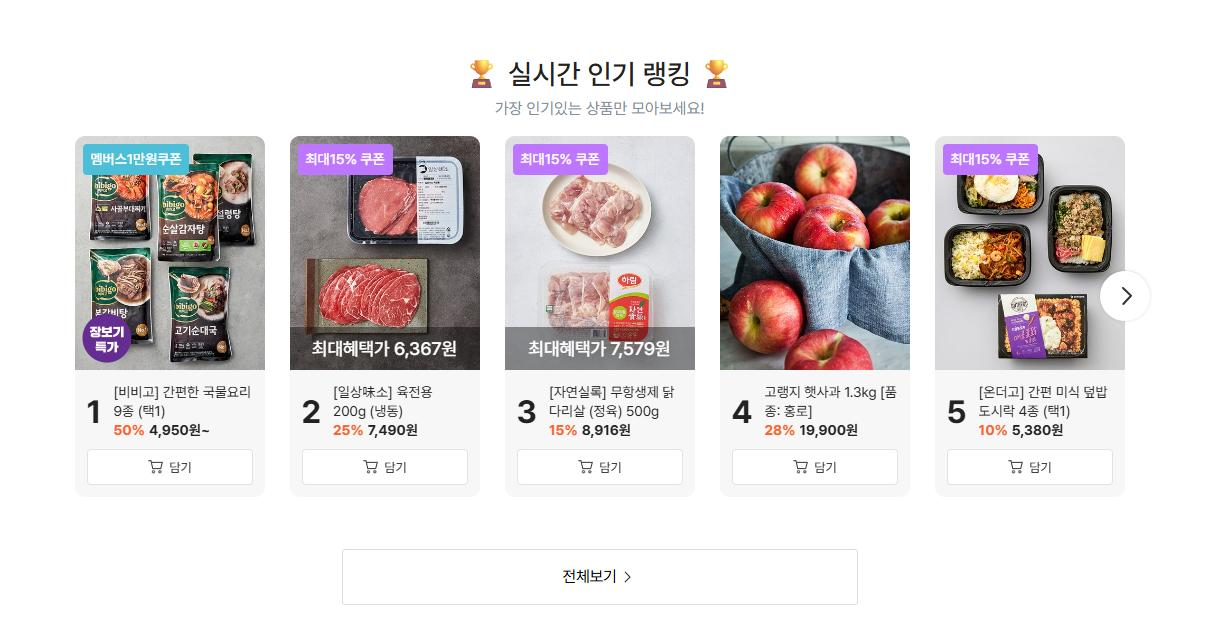button: (344, 549, 857, 605), (517, 446, 685, 488), (301, 449, 468, 488), (732, 448, 897, 487), (87, 450, 255, 485), (947, 449, 1111, 484), (1101, 271, 1154, 324)
